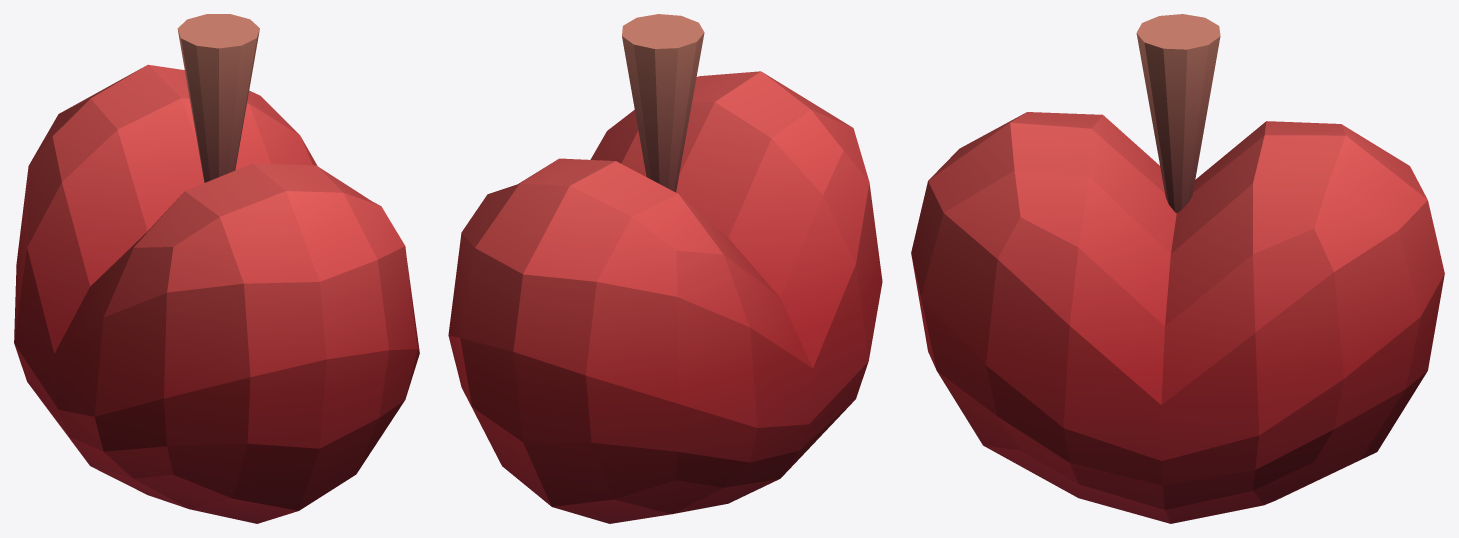
File: Health.fbx
3 views of the same model, side by side, from view 1: azimuth 30°, elevation 25°; view 2: azimuth 150°, elevation 25°; view 3: azimuth 270°, elevation 25° (orthographic). The views are drawn at different scales.
Parts seen in each view (by area): view 1: Health_Mesh; view 2: Health_Mesh; view 3: Health_Mesh.
Part boxes in pixels (<box>): Health_Mesh: <box>14,14,419,523</box>; Health_Mesh: <box>448,14,882,523</box>; Health_Mesh: <box>911,14,1444,523</box>.
Size of the model in its own units: 95.79 by 134 by 133.
